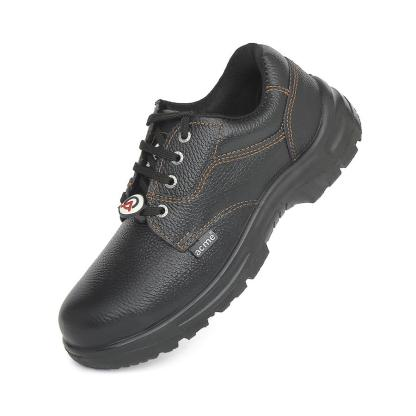bota: (53, 37, 366, 374)
